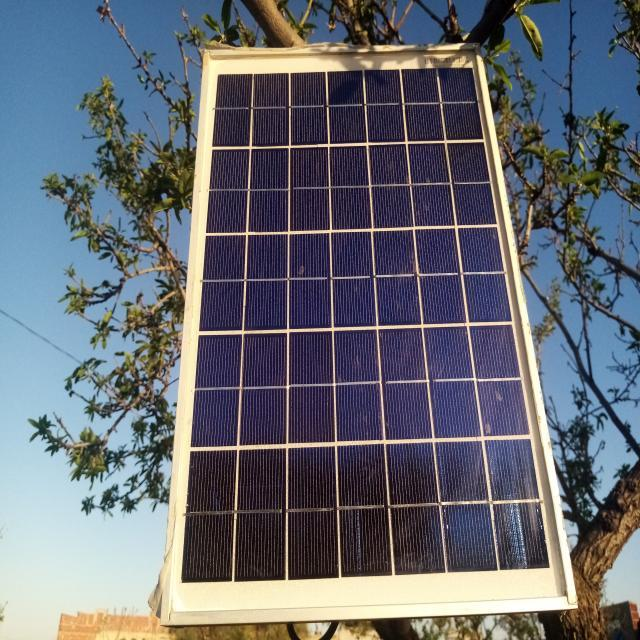no faulty: (168, 47, 575, 619)
